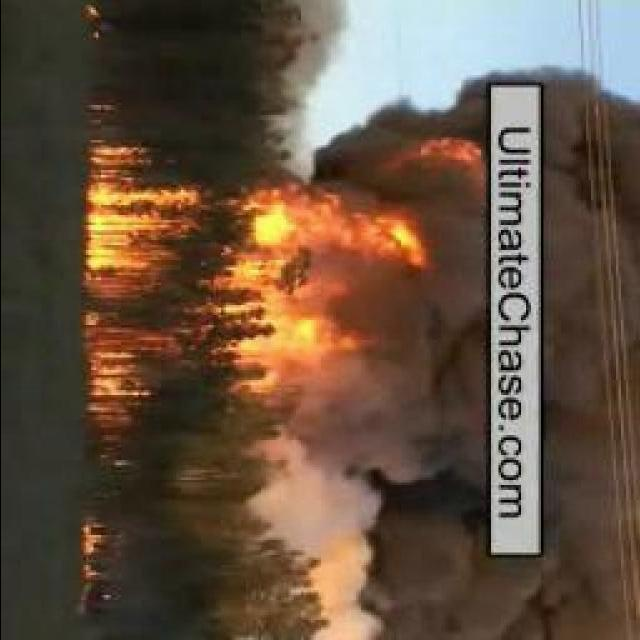Fire: (209, 201, 428, 412), (83, 134, 197, 442), (379, 138, 490, 176), (82, 503, 115, 600)
